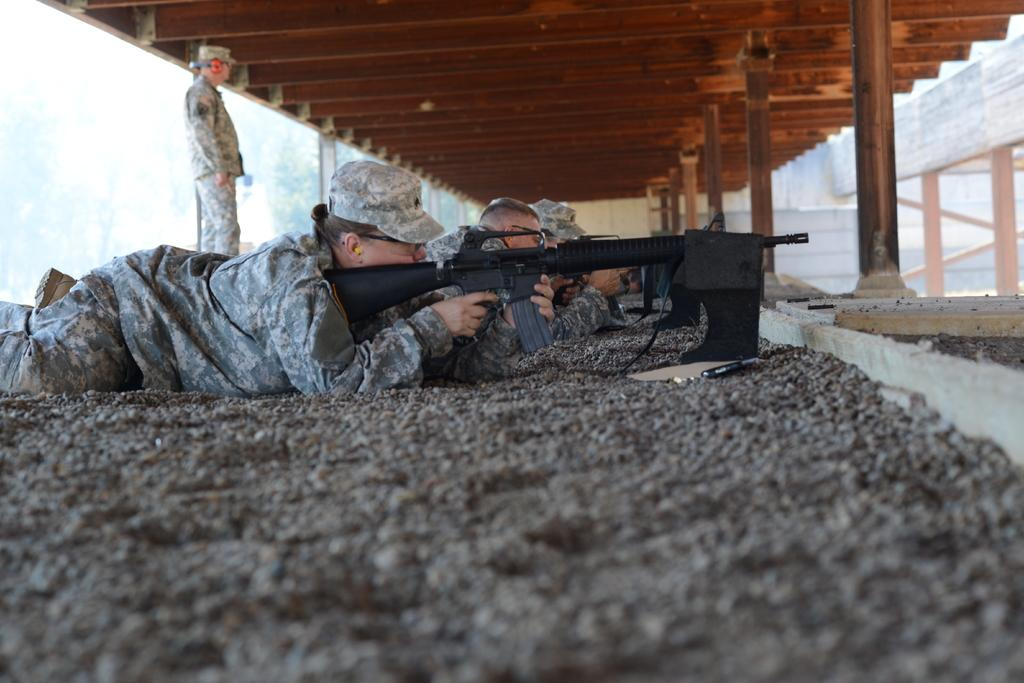Rifle: (319, 229, 809, 358), (547, 233, 703, 315)
